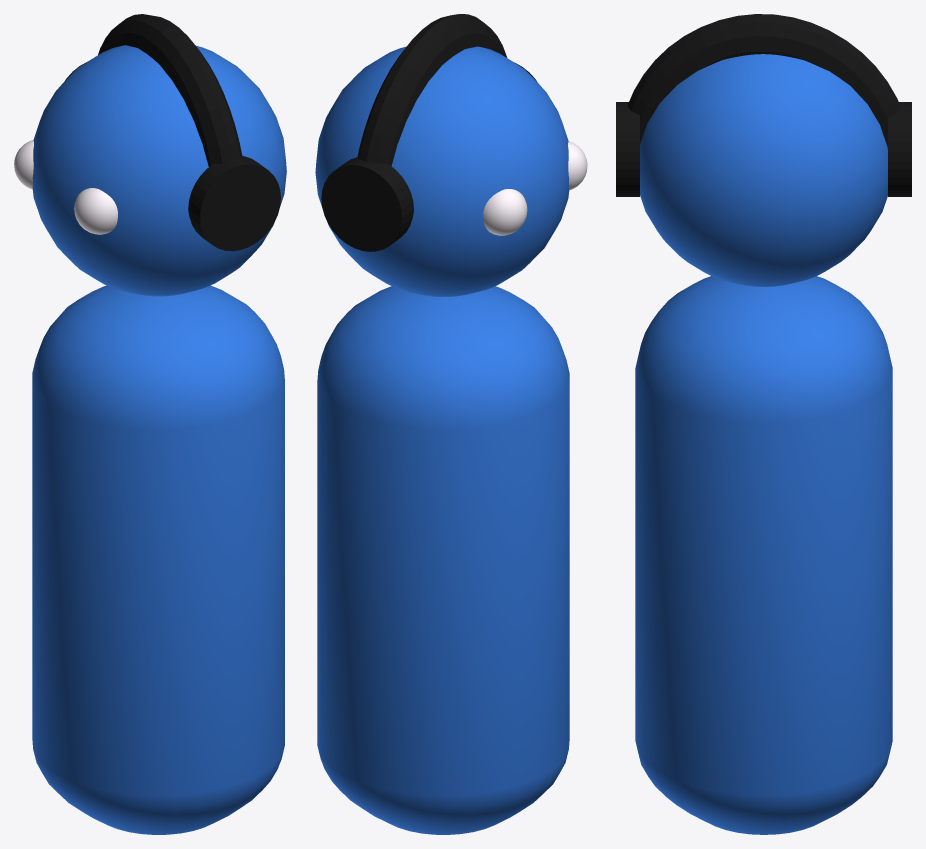
File: personHeadphones.fbx
3 views of the same model, side by side, from view 1: azimuth 30°, elevation 25°; view 2: azimuth 150°, elevation 25°; view 3: azimuth 270°, elevation 25° (orthographic).
Parts seen in each view (by area): view 1: Cylinder.005; view 2: Cylinder.005; view 3: Cylinder.005.
Part boxes in pixels (x1=…): Cylinder.005: x1=14, y1=14, x2=286, y2=834; Cylinder.005: x1=315, y1=14, x2=587, y2=834; Cylinder.005: x1=616, y1=14, x2=911, y2=834.
Bounding box in the file's own units: 54.5 × 186 × 61.65.
